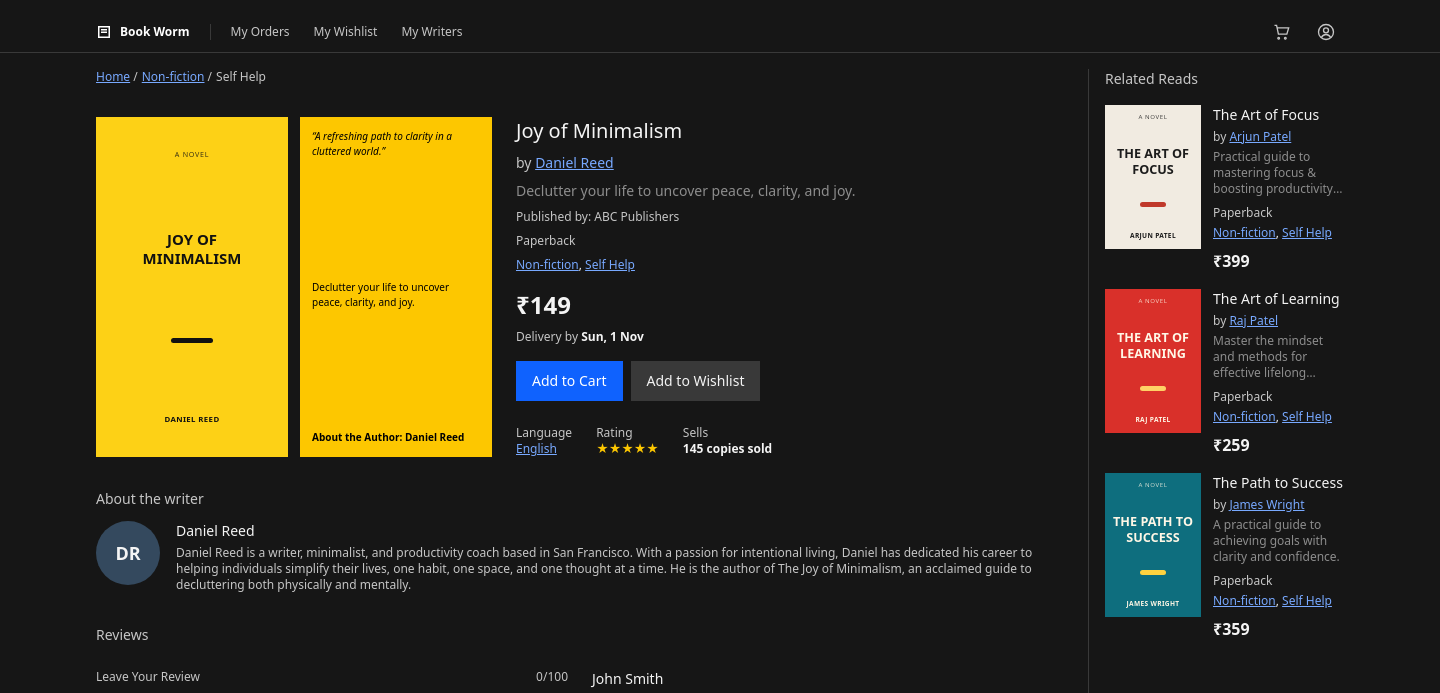
Test: App flows › adds a book to the cart from its detail page and shows related reads
Expected: the heading "Joy of Minimalism" is shown, x1=516 y1=117 x2=682 y2=144
Expected: the heading "Related Reads" is shown, x1=1105 y1=69 x2=1198 y2=88
Click the button "Add to Cart". click: x=569, y=381
box: x1=516 y1=361 x2=622 y2=401
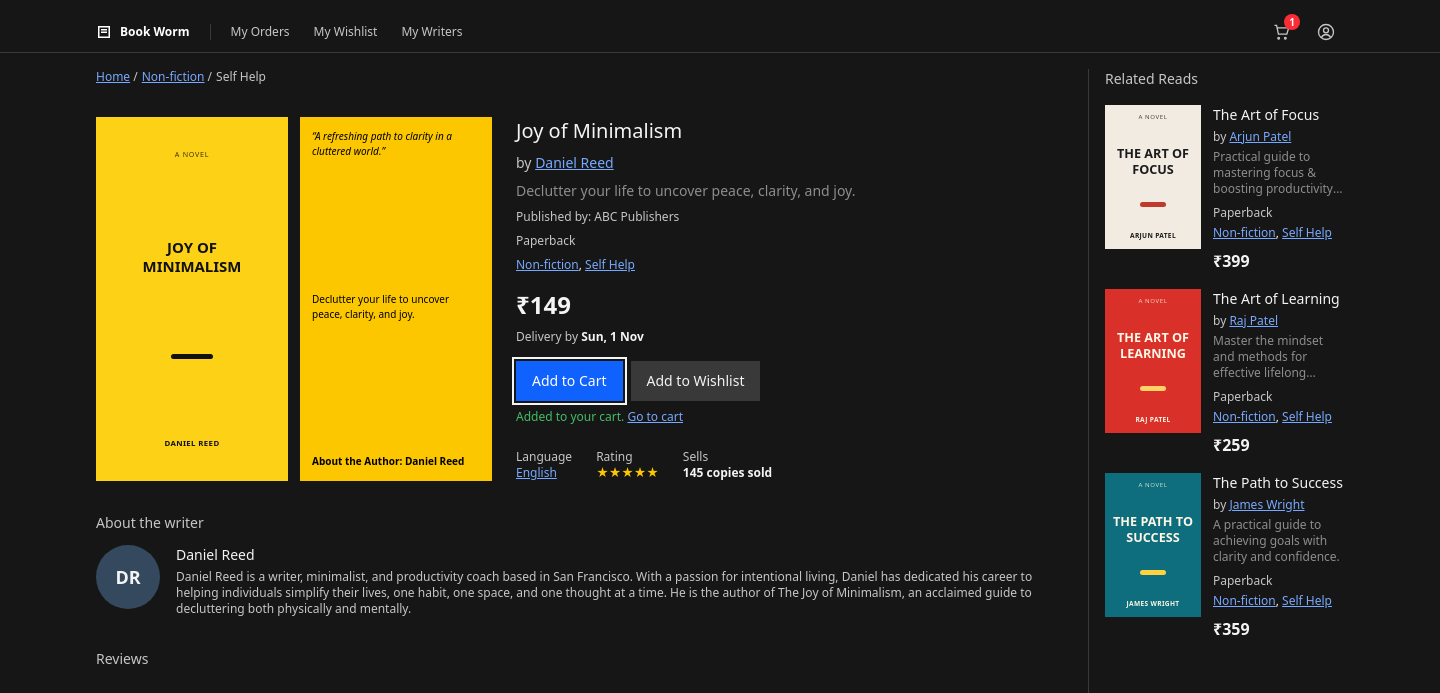
Expected: the link named "Shopping cart, 1 item" is shown, x1=1272 y1=14 x2=1300 y2=42
